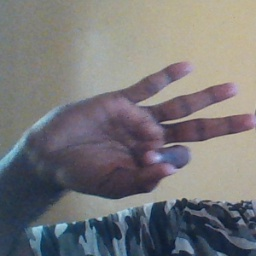K: (27, 60, 256, 202)
